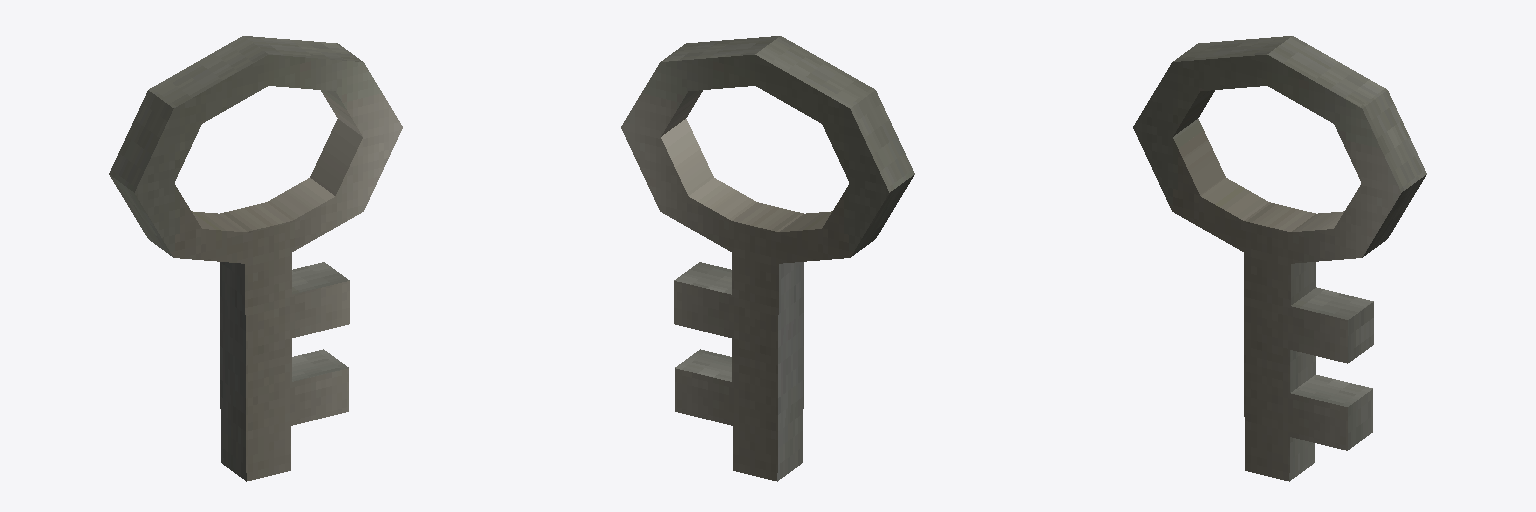
3 renders of one model, left to right at view 1: azimuth 30°, elevation 25°; view 2: azimuth 150°, elevation 25°; view 3: azimuth 330°, elevation 25°, orthographic.
Parts seen in each view (by area): view 1: 円; view 2: 円; view 3: 円.
Part boxes in pixels (x1,y1,x2,y2): 円: (109, 36, 402, 481); 円: (621, 36, 914, 481); 円: (1133, 36, 1426, 481).
Bounding box in the file's own units: 0.6525 × 0.9787 × 0.1079.
Materials: 1 (1 with a texture image).